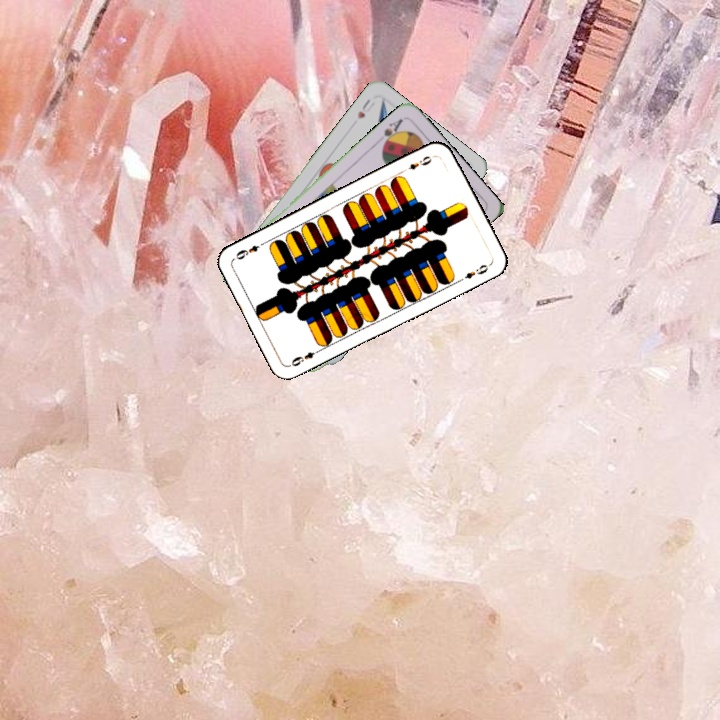E9: (286, 345, 324, 369), (404, 151, 437, 173)
HU: (353, 94, 377, 121)
SA: (378, 114, 406, 150)
